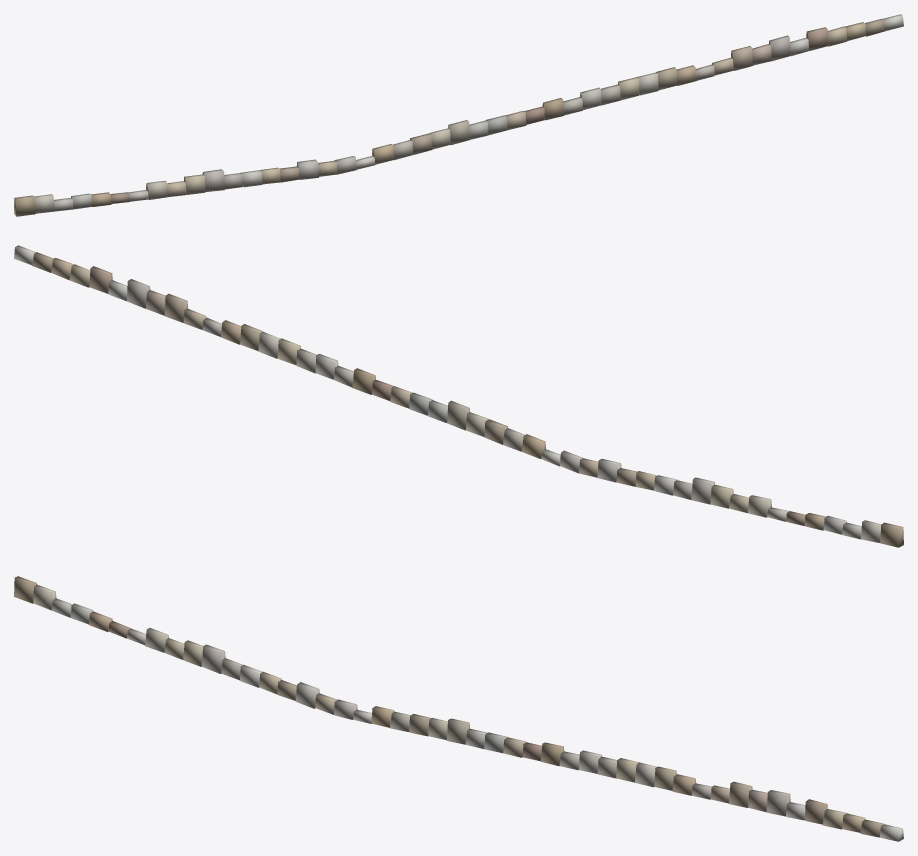
Rendered from farm_-1_4_far.glb.
3 views of the same model, one above another, from view 1: azimuth 30°, elevation 25°; view 2: azimuth 150°, elevation 25°; view 3: azimuth 330°, elevation 25° (orthographic). The views are drawn at different scales.
Visible parts, largest first — view 1: geometry_0; view 2: geometry_0; view 3: geometry_0.
Boxes of the visible parts, x1,y1,x2,y2 form: geometry_0: [14, 14, 903, 216]; geometry_0: [14, 245, 903, 547]; geometry_0: [14, 576, 903, 841].
Size of the model in its own units: 74.48 by 4.35 by 7.83.
